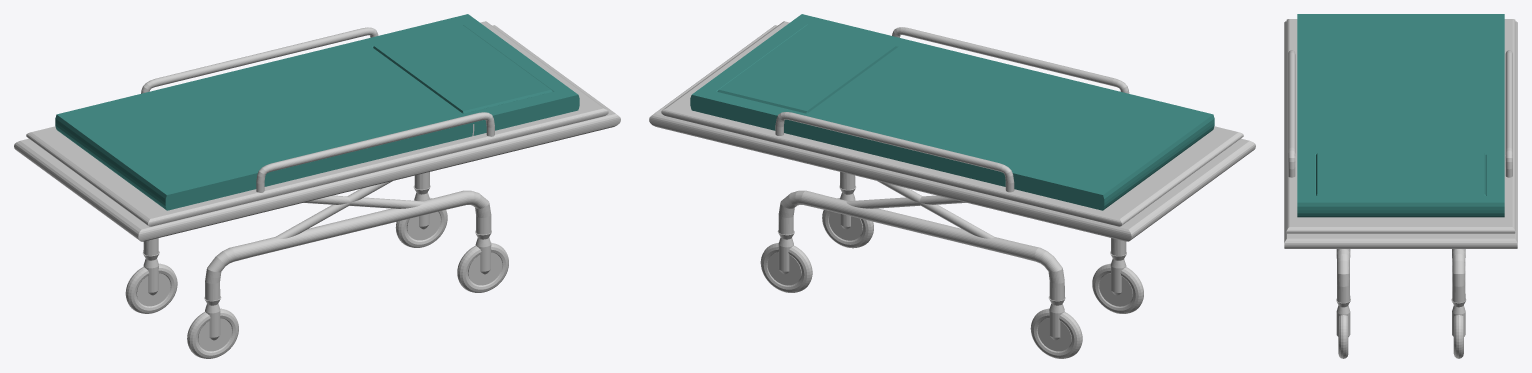
Rendered from Maca.fbx.
The picture shows the model from 3 angles, left to right: view 1: azimuth 30°, elevation 25°; view 2: azimuth 150°, elevation 25°; view 3: azimuth 270°, elevation 25°; orthographic projection. The views are drawn at different scales.
Visible parts, largest first — view 1: Cylinder.008; view 2: Cylinder.008; view 3: Cylinder.008.
Boxes of the visible parts, box(x1,y1,x2,y2) form: Cylinder.008: box(14, 14, 620, 358); Cylinder.008: box(649, 14, 1255, 358); Cylinder.008: box(1284, 14, 1517, 358).
Size of the model in its own units: 1298 by 531 by 579.
